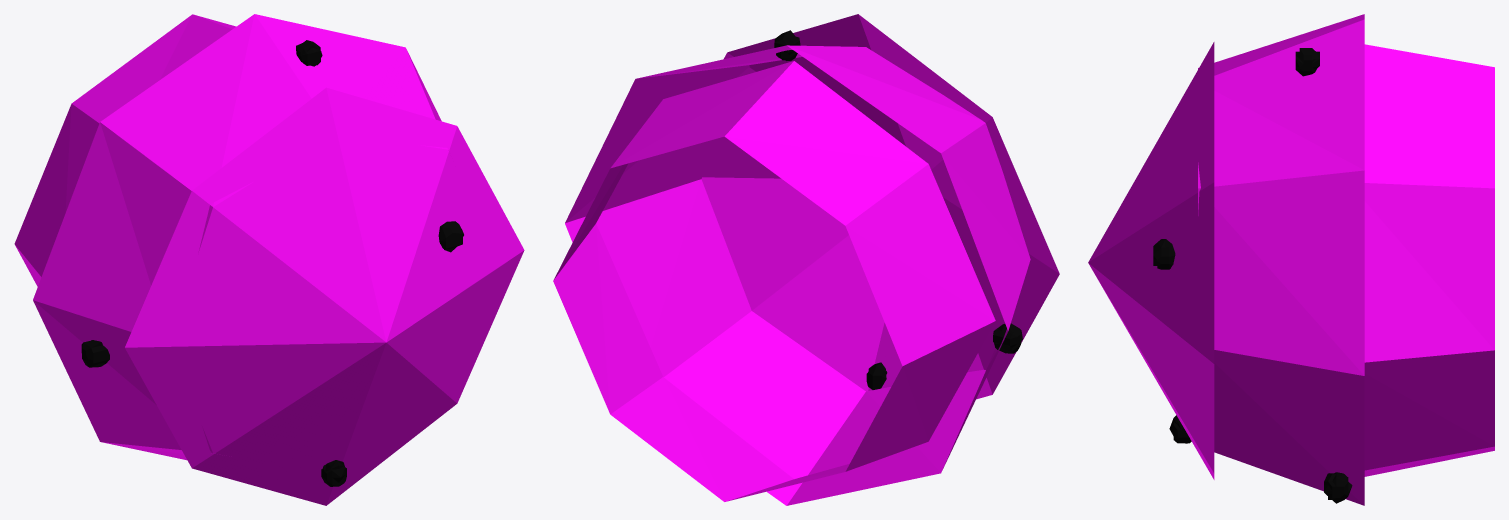
File: whiteberrybush.obj
The picture shows the model from 3 angles, left to right: view 1: azimuth 30°, elevation 25°; view 2: azimuth 150°, elevation 25°; view 3: azimuth 270°, elevation 25°; orthographic projection. The views are drawn at different scales.
Visible parts, largest first — view 1: whiteberrybush; view 2: whiteberrybush; view 3: whiteberrybush.
Part boxes in pixels (x1,y1,x2,y2): whiteberrybush: (14, 14, 524, 505); whiteberrybush: (553, 14, 1059, 505); whiteberrybush: (1088, 14, 1494, 505).
Bounding box in the file's own units: 1.32 × 1.31 × 1.
